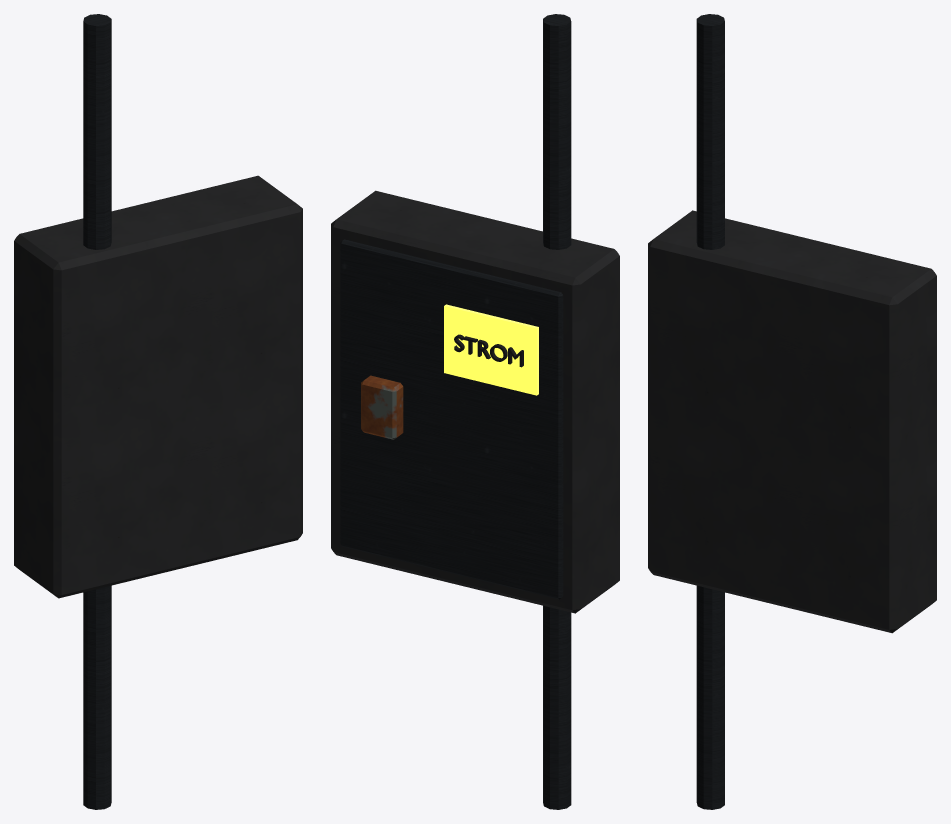
Rendered from power_switch.gltf.
3 views of the same model, side by side, from view 1: azimuth 30°, elevation 25°; view 2: azimuth 150°, elevation 25°; view 3: azimuth 330°, elevation 25° (orthographic).
Parts seen in each view (by area): view 1: PowerSwitch; view 2: PowerSwitch, PowerTxt; view 3: PowerSwitch.
Part boxes in pixels (<box>): PowerSwitch: <box>14,14,302,809</box>; PowerSwitch: <box>331,14,619,809</box>; PowerTxt: <box>454,334,523,367</box>; PowerSwitch: <box>648,14,936,809</box>.
Size of the model in its own units: 0.7 by 2.1 by 0.275.
Materials: 5 (3 with a texture image).
